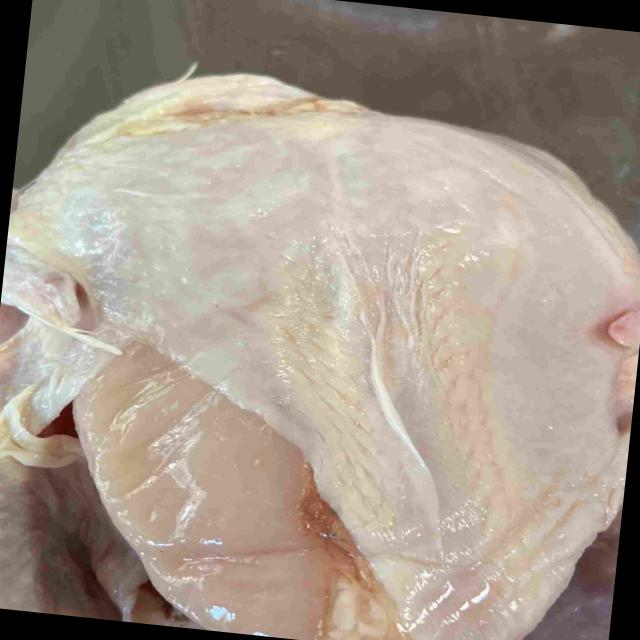breast: (49, 119, 634, 640)
wing: (0, 191, 78, 341)
